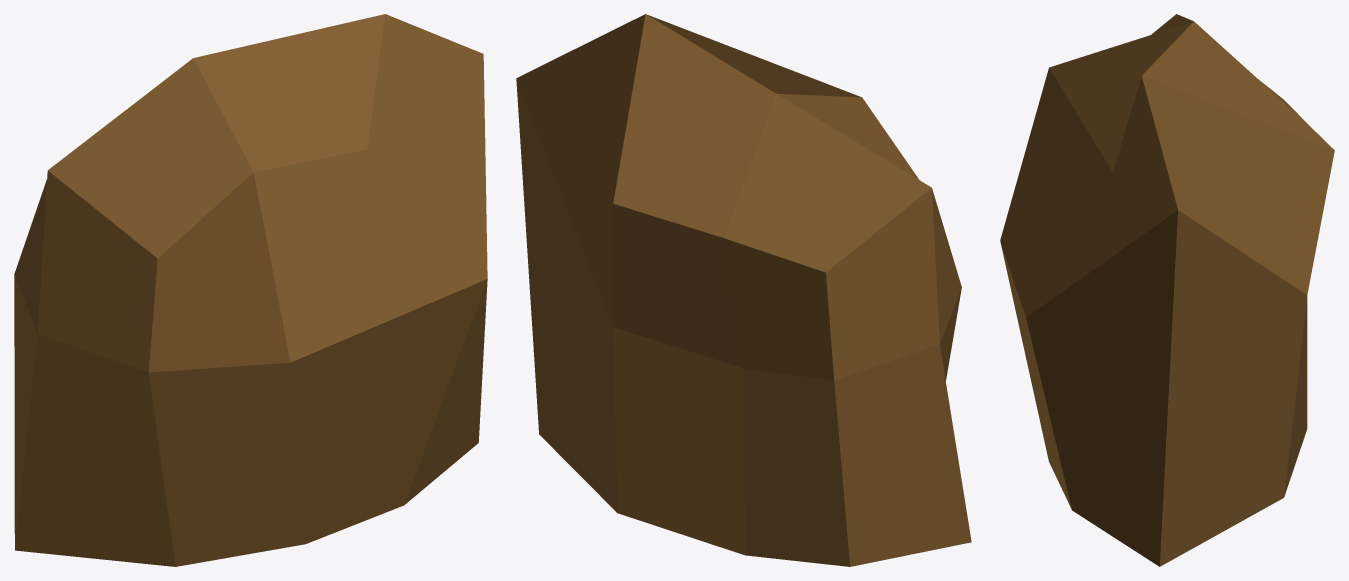
Rendered from rock.glb.
3 renders of one model, left to right at view 1: azimuth 30°, elevation 25°; view 2: azimuth 150°, elevation 25°; view 3: azimuth 270°, elevation 25°, orthographic. The views are drawn at different scales.
Visible parts, largest first — view 1: rock; view 2: rock; view 3: rock.
Part boxes in pixels (x1=…): rock: x1=14, y1=14, x2=487, y2=566; rock: x1=516, y1=14, x2=971, y2=566; rock: x1=1000, y1=14, x2=1334, y2=566.
Size of the model in its own units: 9.05 by 8.46 by 5.76.
Materials: 1 (1 with a texture image).
